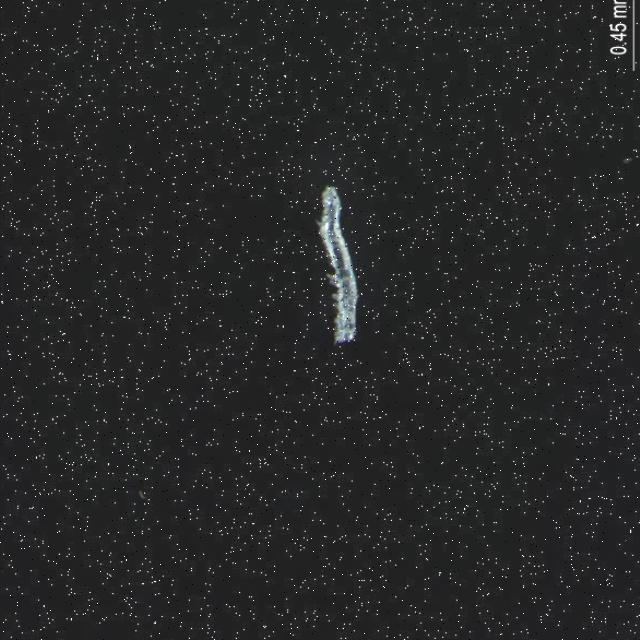Fibre: (312, 172, 366, 354)
